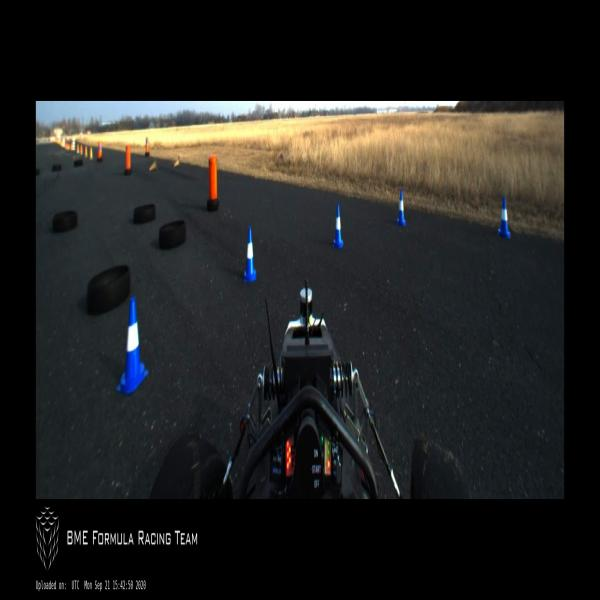blue_cone: (116, 297, 149, 393), (244, 226, 256, 282), (498, 196, 510, 240), (333, 205, 344, 248), (397, 189, 406, 226)
